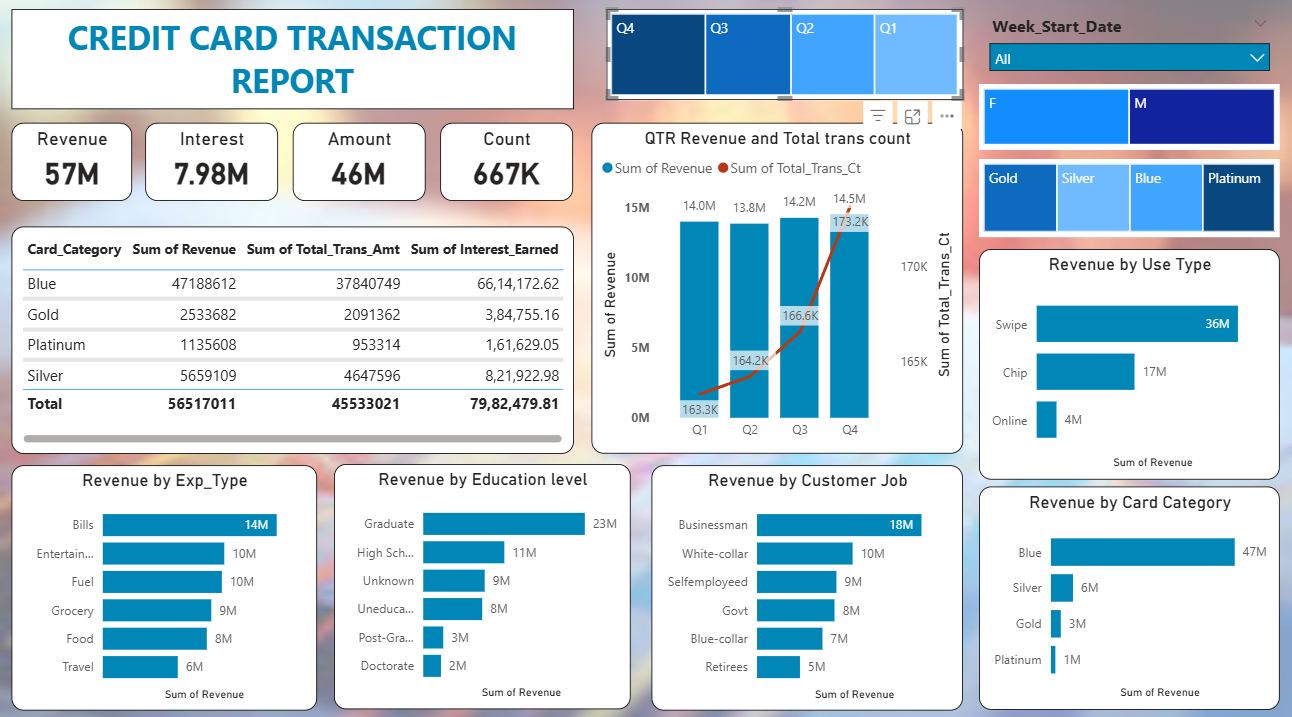

Layout of this report page (visuals, bound fields, positions):
{"tool":"powerbi","page":{"name":"CC Transaction","canvas":[1280,720],"ordinal":2},"visuals":[{"type":"textbox","box":[11.7,15,551.7,98.3],"z":0},{"type":"lineStackedColumnComboChart","title":"QTR Revenue and Total trans count","fields":{"Category":["ccdb cc_detail.Qtr"],"Y":["Sum(ccdb cc_detail.Revenue)"],"Y2":["Sum(ccdb cc_detail.Total_Trans_Ct)"]},"box":[581.9,126.4,364.4,324.7],"z":1000},{"type":"barChart","title":" Revenue by Exp_Type","fields":{"Y":["Sum(ccdb cc_detail.Revenue)"],"Category":["ccdb cc_detail.Exp_Type"]},"box":[11.8,462.9,299.8,241],"z":2000},{"type":"barChart","title":" Revenue by Education level","fields":{"Y":["Sum(ccdb cc_detail.Revenue)"],"Category":["ccdb cust_detail.Education_Level"]},"box":[329.1,461.4,290.9,241],"z":3000},{"type":"barChart","title":" Revenue by Customer Job","fields":{"Y":["Sum(ccdb cc_detail.Revenue)"],"Category":["ccdb cust_detail.Customer_Job"]},"box":[640.7,462.9,305.6,241],"z":4000},{"type":"barChart","title":" Revenue by Card Category","fields":{"Y":["Sum(ccdb cc_detail.Revenue)"],"Category":["ccdb cc_detail.Card_Category"]},"box":[962.4,483.4,295.3,218.9],"z":5000},{"type":"barChart","title":" Revenue by Use Type","fields":{"Y":["Sum(ccdb cc_detail.Revenue)"],"Category":["ccdb cc_detail.Use_Chip"]},"box":[962.4,249.8,295.3,226.3],"z":6000},{"type":"tableEx","fields":{"Values":["ccdb cc_detail.Card_Category","Sum(ccdb cc_detail.Revenue)","Sum(ccdb cc_detail.Total_Trans_Amt)","Sum(ccdb cc_detail.Interest_Earned)"]},"box":[11.7,228.3,551.7,223.3],"z":7000},{"type":"card","title":"Revenue","fields":{"Values":["Sum(ccdb cc_detail.Revenue)"]},"box":[11.7,126.7,118.3,76.7],"z":8000},{"type":"card","title":"Amount","fields":{"Values":["Sum(ccdb cc_detail.Total_Trans_Amt)"]},"box":[288.3,126.7,130,76.7],"z":9000},{"type":"card","title":" Count","fields":{"Values":["Sum(ccdb cc_detail.Total_Trans_Ct)"]},"box":[433.3,126.7,130,76.7],"z":10000},{"type":"card","title":" Interest","fields":{"Values":["Sum(ccdb cc_detail.Interest_Earned)"]},"box":[143.3,126.7,130,76.7],"z":11000},{"type":"slicer","fields":{"Values":["ccdb cc_detail.Week_Start_Date"]},"box":[962.4,14.7,295.3,89.6],"z":12000},{"type":"treemap","fields":{"Group":["ccdb cc_detail.Qtr"],"Values":["Avg(ccdb cc_detail.Client_Num)"]},"box":[596.6,14.7,349.7,89.6],"z":13000},{"type":"treemap","fields":{"Values":["Avg(ccdb cc_detail.Client_Num)"],"Group":["ccdb cust_detail.Gender"]},"box":[962.4,88.2,295.3,64.7],"z":14000},{"type":"treemap","fields":{"Group":["ccdb cc_detail.Card_Category"],"Values":["Avg(ccdb cc_detail.Client_Num)"]},"box":[962.4,161.6,295.3,76.4],"z":15000}]}

Visuals, with their boxes in screenshot pixels (x1, y1, x2, y2), scaled from the page's 1280x720 canvas onto the 1292x717 screenshot:
textbox: region(12, 15, 569, 113)
"QTR Revenue and Total trans count" lineStackedColumnComboChart: region(587, 126, 955, 449)
" Revenue by Exp_Type" barChart: region(12, 461, 315, 701)
" Revenue by Education level" barChart: region(332, 459, 626, 699)
" Revenue by Customer Job" barChart: region(647, 461, 955, 701)
" Revenue by Card Category" barChart: region(971, 481, 1269, 699)
" Revenue by Use Type" barChart: region(971, 249, 1269, 474)
tableEx - ccdb cc_detail.Card_Category x Sum(ccdb cc_detail.Revenue): region(12, 227, 569, 450)
"Revenue" card: region(12, 126, 131, 203)
"Amount" card: region(291, 126, 422, 203)
" Count" card: region(437, 126, 569, 203)
" Interest" card: region(145, 126, 276, 203)
slicer - ccdb cc_detail.Week_Start_Date: region(971, 15, 1269, 104)
treemap - ccdb cc_detail.Qtr x Avg(ccdb cc_detail.Client_Num): region(602, 15, 955, 104)
treemap - Avg(ccdb cc_detail.Client_Num) x ccdb cust_detail.Gender: region(971, 88, 1269, 152)
treemap - ccdb cc_detail.Card_Category x Avg(ccdb cc_detail.Client_Num): region(971, 161, 1269, 237)
